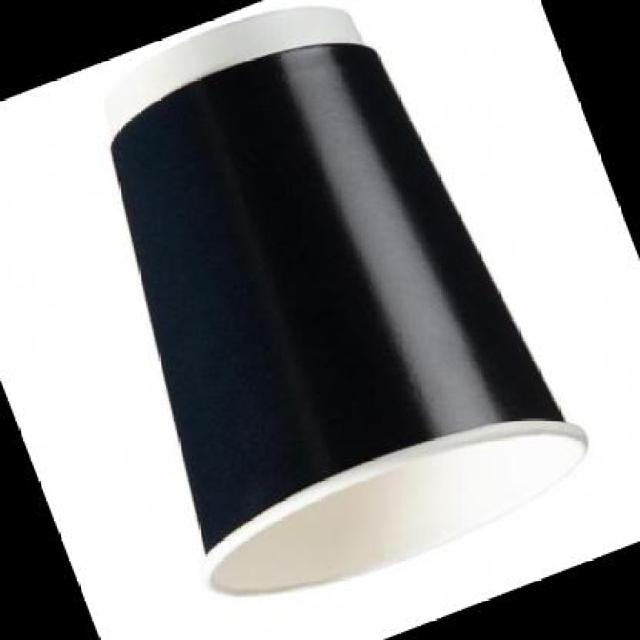non-biodegradable: (29, 0, 623, 637)
